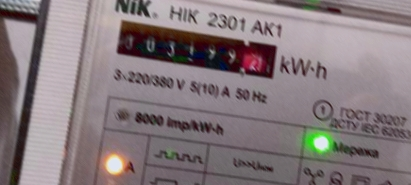0: (121, 30, 135, 50), (144, 32, 156, 52)
1: (186, 36, 196, 55)
3: (164, 38, 175, 57)
6: (247, 57, 258, 73)
9: (225, 46, 236, 65), (205, 41, 215, 60)
screen: (108, 14, 285, 86)
